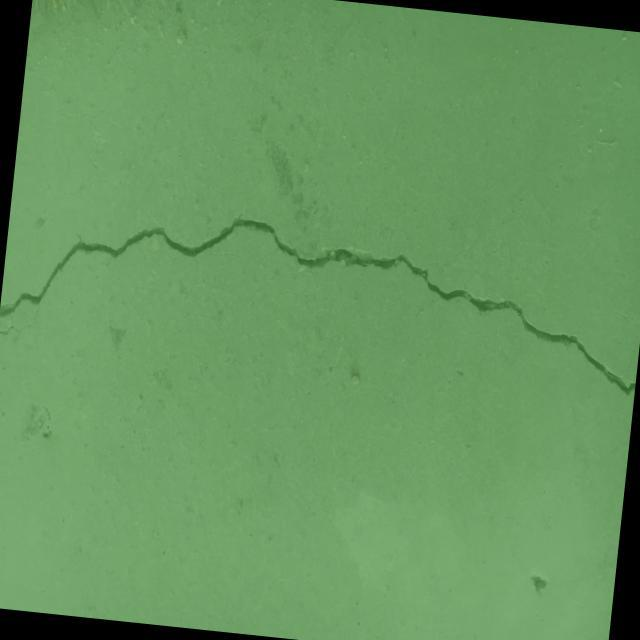crack: (0, 187, 640, 402), (447, 150, 491, 272)
